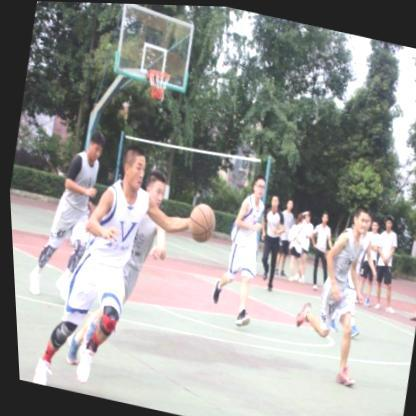basketball: (181, 200, 216, 243)
rim: (143, 66, 171, 101)
